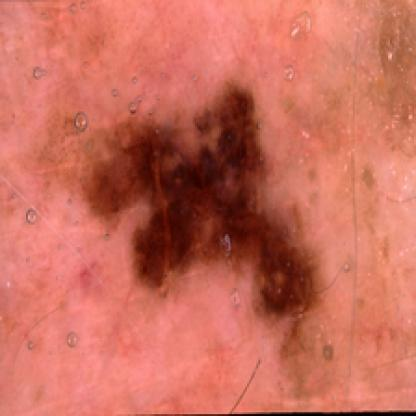malignant: (82, 84, 325, 316)
